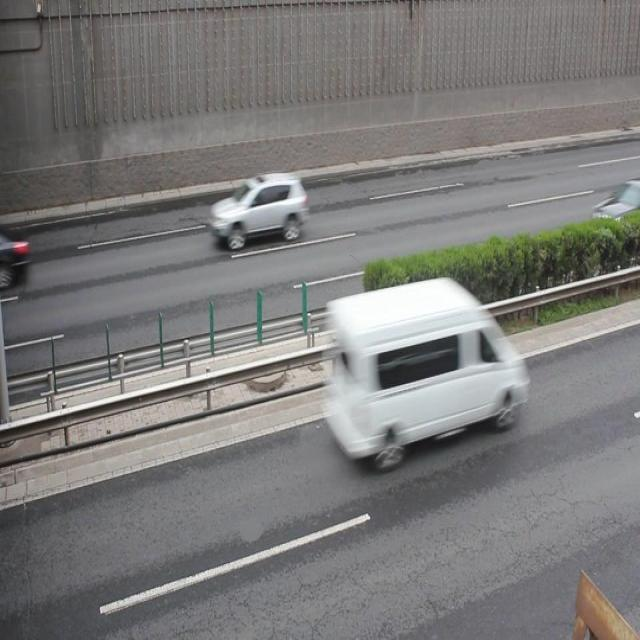car: (210, 175, 305, 247), (590, 183, 640, 233)
truck: (322, 274, 523, 462)
